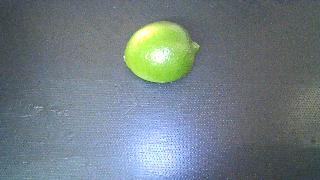EXPORTACION: (124, 21, 199, 83)
